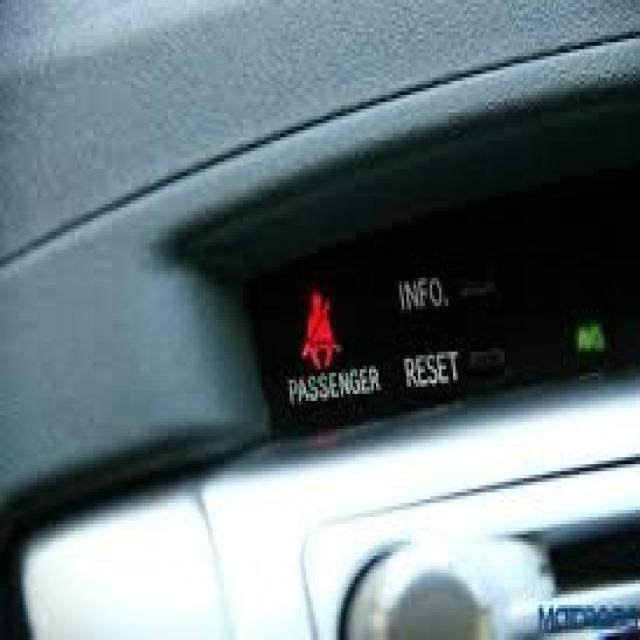Seat Belt: (300, 284, 340, 368)
